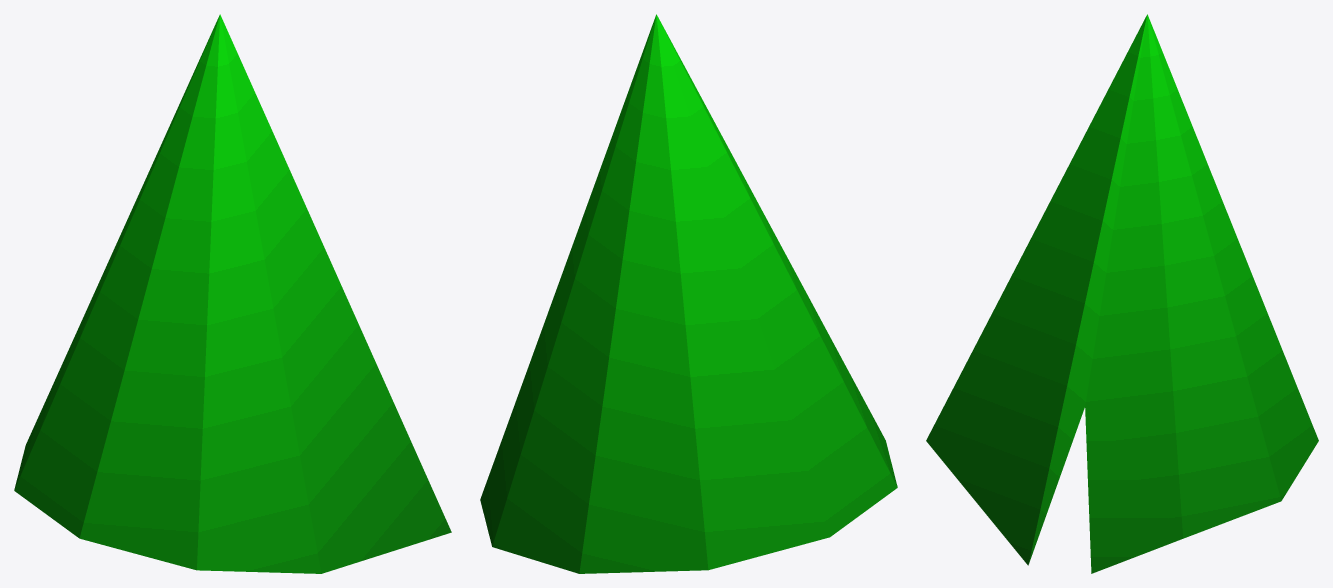
File: Prefab_Foliage_Tree_Pine_Leaves_C.glb
3 renders of one model, left to right at view 1: azimuth 30°, elevation 25°; view 2: azimuth 150°, elevation 25°; view 3: azimuth 270°, elevation 25°, orthographic. The views are drawn at different scales.
Parts seen in each view (by area): view 1: PineTree_B_Trunk.009; view 2: PineTree_B_Trunk.009; view 3: PineTree_B_Trunk.009.
Part boxes in pixels (x1,y1,x2,y2): PineTree_B_Trunk.009: (14, 14, 451, 573); PineTree_B_Trunk.009: (480, 14, 897, 573); PineTree_B_Trunk.009: (926, 14, 1318, 573).
Bounding box in the file's own units: 3.09 × 4.37 × 3.2.
Materials: 1 (1 with a texture image).
